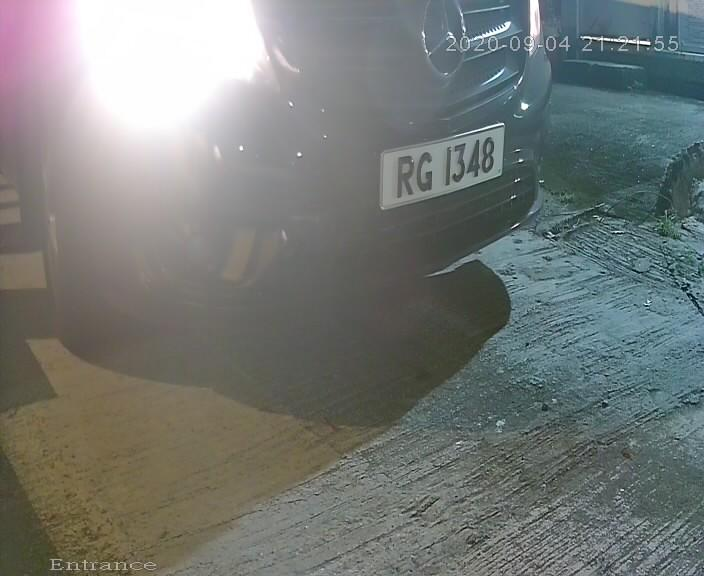License Plate: (368, 103, 511, 228)
